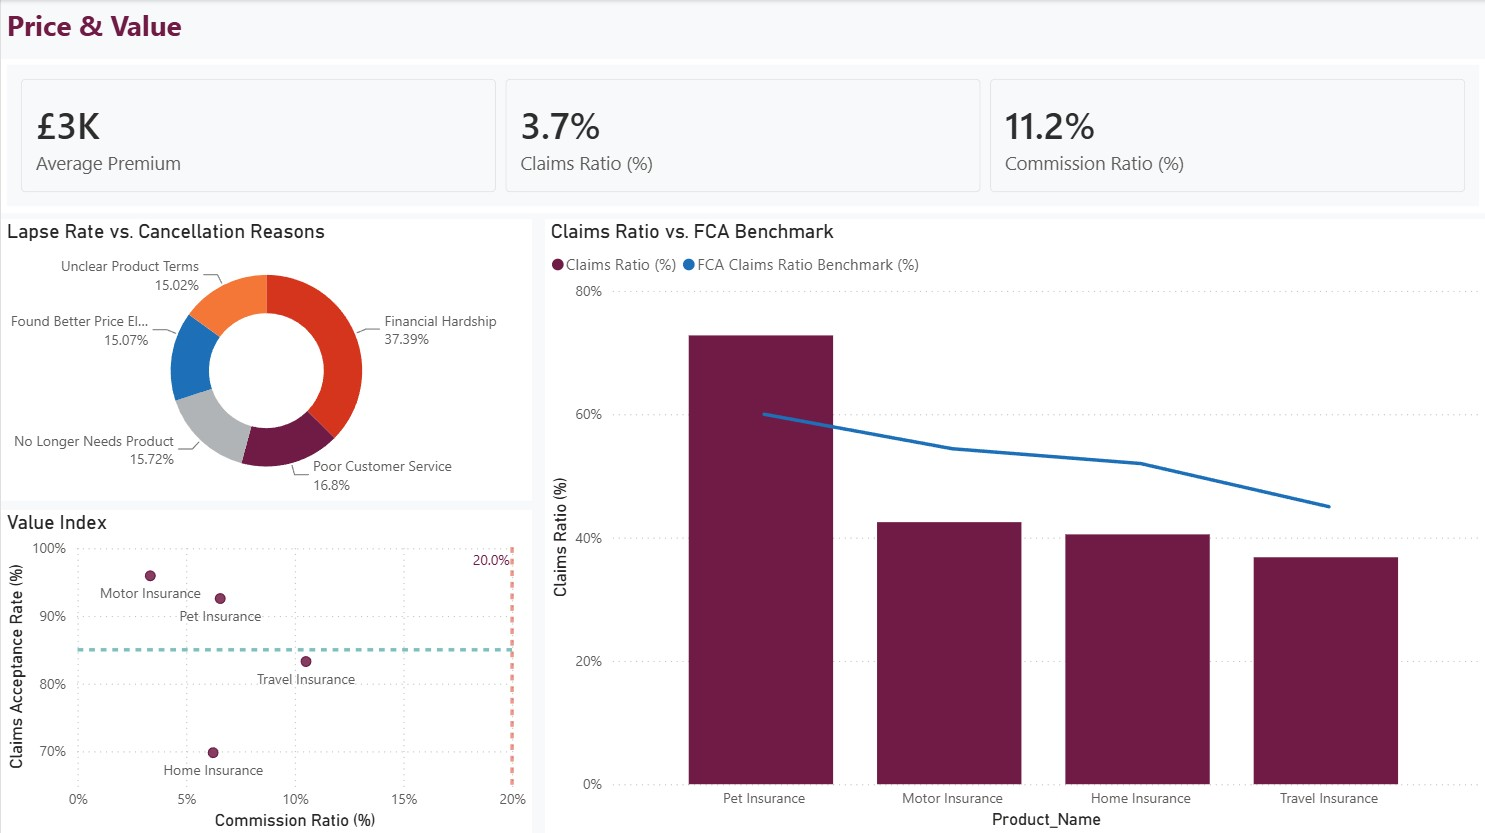

The page's visual inventory and layout, read from the dashboard file:
{"tool":"powerbi","page":{"name":"Fair Value Assessment","canvas":[1280,720],"ordinal":1},"visuals":[{"type":"textbox","box":[0,0,176.3,50.8],"z":0},{"type":"cardVisual","fields":{"Data":["_Measures.Average Premium","_Measures.Claims Ratio (%)","_Measures.Commission Ratio (%)"]},"box":[0,50.8,1280,132.9],"z":1000},{"type":"lineClusteredColumnComboChart","title":"Claims Ratio vs. FCA Benchmark ","fields":{"Category":["dim_product.Product_Name"],"Y":["_Measures.Claims Ratio (%)"],"Y2":["_Measures.FCA Claims Ratio Benchmark (%)"]},"box":[468.8,189.3,811.2,530.8],"z":2000},{"type":"scatterChart","title":"Value Index","fields":{"X":["_Measures.Commission Ratio (%)"],"Y":["_Measures.Claims Acceptance Rate (%)"],"Category":["dim_product.Product_Name"]},"box":[0,439.8,457.8,280.3],"z":3000},{"type":"donutChart","title":"Lapse Rate vs. Cancellation Reasons","fields":{"Category":["fact_products.cancellation_reason"],"Y":["_Measures.Total Policies"]},"box":[0,189.3,457.8,242.7],"z":4000}]}

Visuals, with their boxes in screenshot pixels (x1, y1, x2, y2), scaled from the page's 1280x720 canvas onto the 1485x833 screenshot:
textbox: detection(0, 0, 205, 59)
cardVisual - _Measures.Average Premium x _Measures.Claims Ratio (%): detection(0, 59, 1484, 213)
"Claims Ratio vs. FCA Benchmark " lineClusteredColumnComboChart: detection(544, 219, 1484, 832)
"Value Index" scatterChart: detection(0, 509, 531, 832)
"Lapse Rate vs. Cancellation Reasons" donutChart: detection(0, 219, 531, 500)
